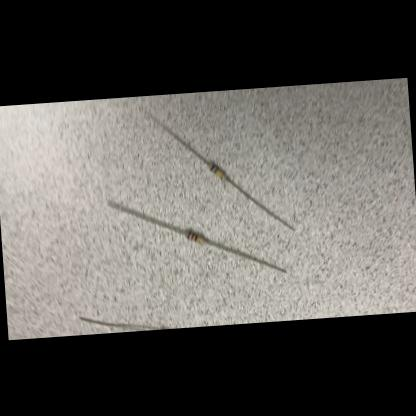resistor: (184, 227, 206, 245), (208, 160, 227, 180)
wire: (228, 172, 294, 234), (144, 108, 208, 170), (207, 234, 286, 277), (107, 198, 184, 240), (80, 312, 152, 334)
